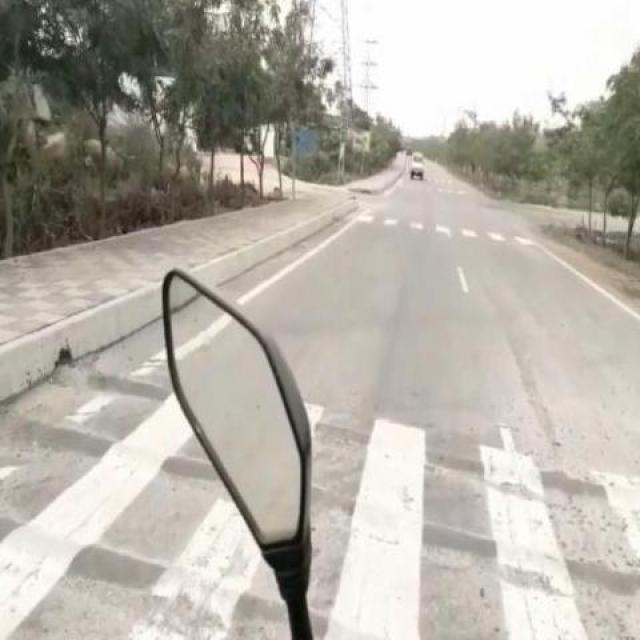Speed Bump: (311, 474, 638, 596), (1, 486, 260, 624), (311, 413, 638, 508), (3, 400, 181, 478), (73, 351, 164, 396), (314, 610, 412, 638)
